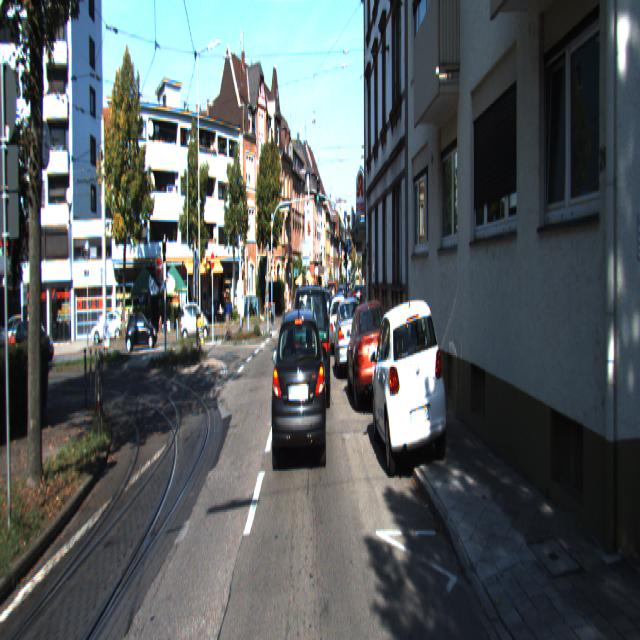Car: (371, 291, 449, 487), (271, 297, 327, 473), (346, 300, 394, 420), (291, 279, 330, 414), (333, 295, 364, 383), (125, 312, 157, 354), (180, 301, 209, 342)
